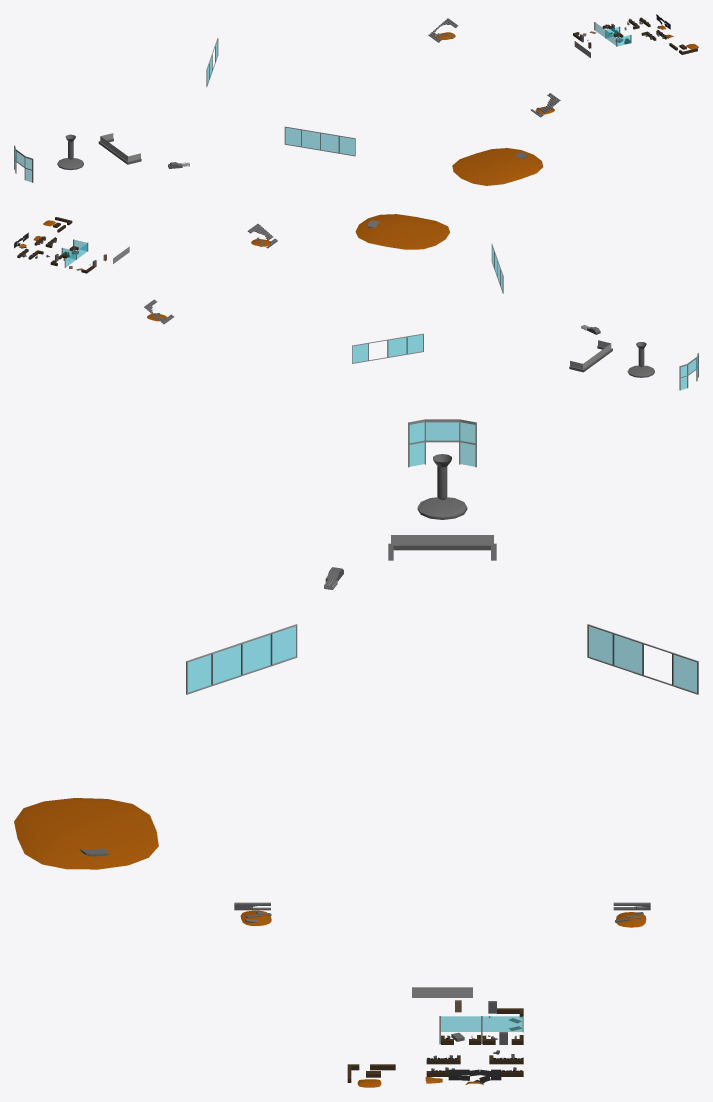
File: Props.fbx
The picture shows the model from 3 angles, top to bottom: view 1: azimuth 30°, elevation 25°; view 2: azimuth 150°, elevation 25°; view 3: azimuth 270°, elevation 25°; orthographic projection. The views are drawn at different scales.
Parts seen in each view (by area): view 1: polySurface1107; view 2: polySurface1107; view 3: polySurface1107.
Boxes of the visible parts, <box> form: polySurface1107: <box>14,14,698,185</box>; polySurface1107: <box>14,214,698,390</box>; polySurface1107: <box>14,419,698,1087</box>.
Bounding box in the file's own units: 26.76 × 1.71 × 12.99.
